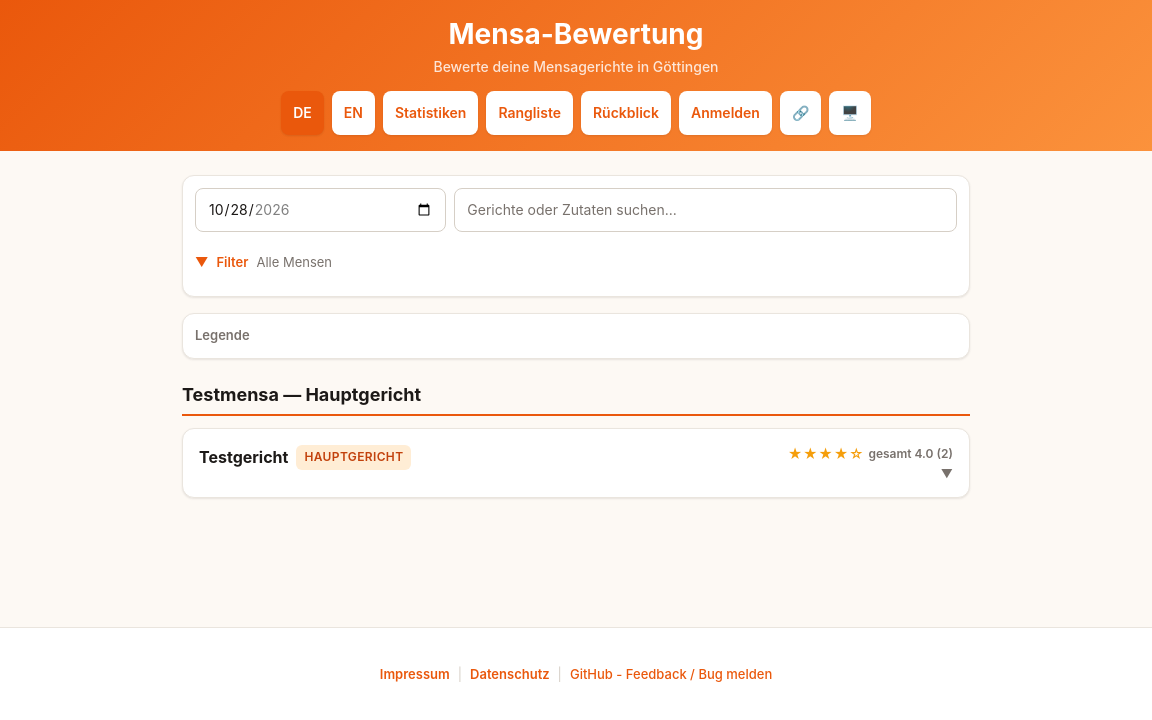
Scenario: only today's comments get the "recent" badge, not old ones
The image size is (1152, 720).
Click the text "Testgericht" at (244,458), box [199,447,288,468]
(page scrolled)
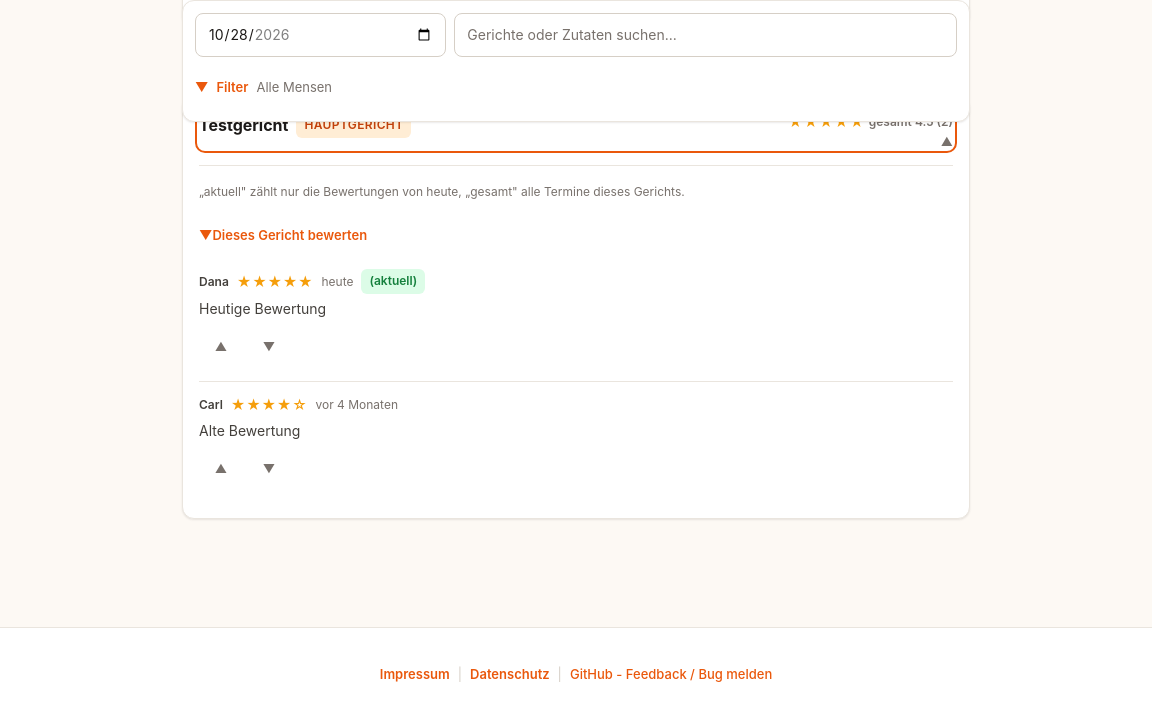
Expected: the text "Heutige Bewertung" is shown, [199,300,326,317]
Expected: the text "Alte Bewertung" is shown, [199,422,300,439]
Expected: the number of elements with class "badge--positive" is 1, [362,269,425,294]
